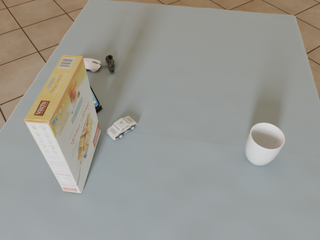box: (24, 55, 101, 193)
cup: (245, 123, 285, 165)
mouse: (84, 58, 103, 72)
toy_car: (107, 116, 137, 140)
